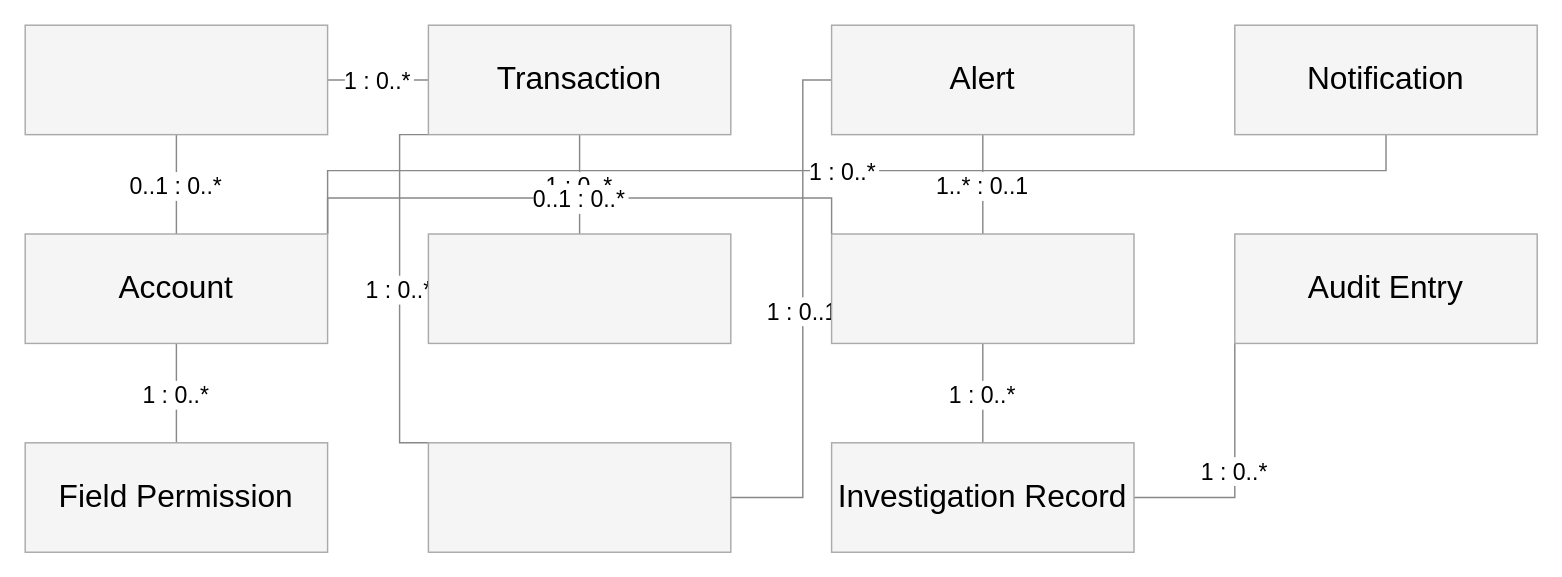
Some shapes in this 1562 by 577 pixel diagram are drawn without their labels. The shapes that lost their labels are listed below. From the top down, each one's centre as x and y in pixels, then its label:
At [176,79]: "Workspace".
At [579,288]: "Ingestion Attempt / Import".
At [982,288]: "Investigation Case".
At [579,496]: "Detection Attempt".
